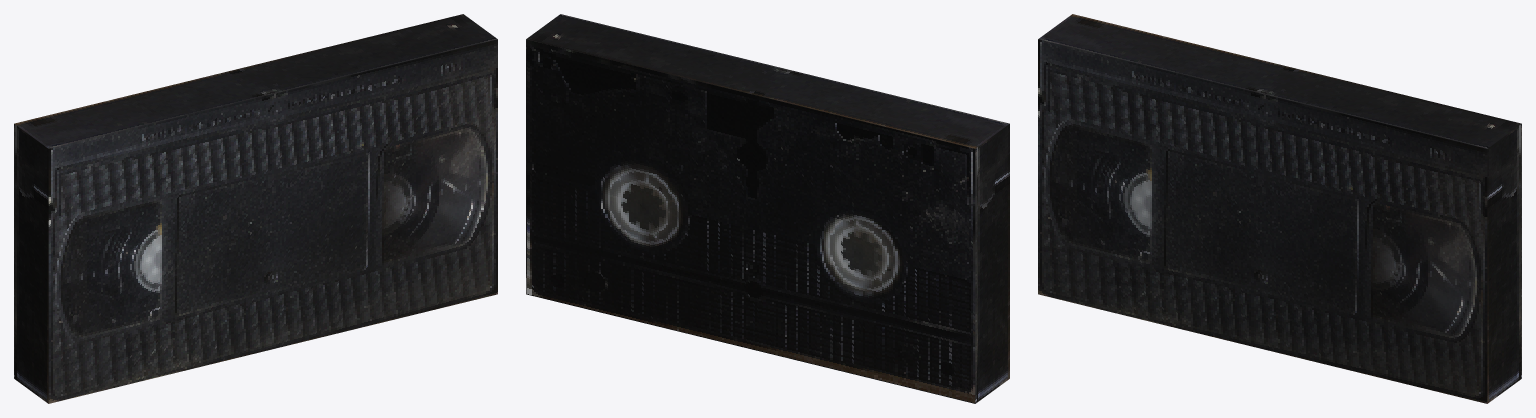
Rendered from ps1_-_vhs_tape.glb.
The picture shows the model from 3 angles, left to right: view 1: azimuth 30°, elevation 25°; view 2: azimuth 150°, elevation 25°; view 3: azimuth 330°, elevation 25°; orthographic projection.
Visible parts, largest first — view 1: vhs-tape; view 2: vhs-tape; view 3: vhs-tape.
Boxes of the visible parts, x1=… form: vhs-tape: x1=14, y1=14, x2=497, y2=403; vhs-tape: x1=526, y1=14, x2=1009, y2=403; vhs-tape: x1=1038, y1=14, x2=1521, y2=403.
Bounding box in the file's own units: 0.4775 × 0.2591 × 0.0635.
1 material, 1 textured.
